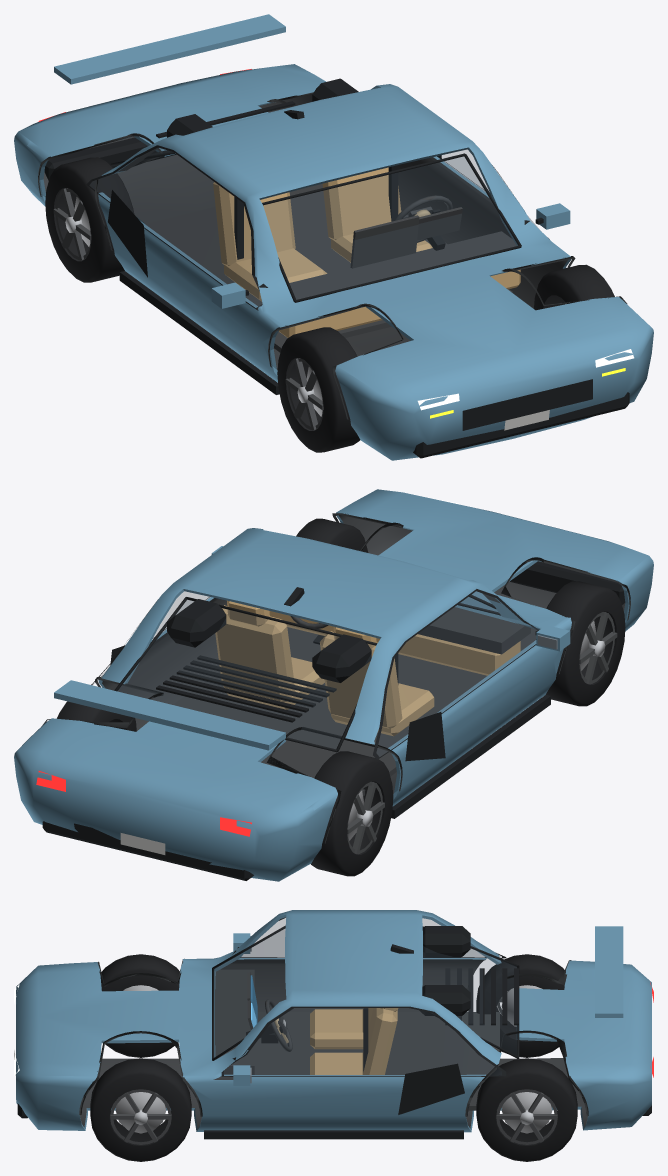
Rendered from fleet-veyron.glb.
3 views of the same model, one above another, from view 1: azimuth 30°, elevation 25°; view 2: azimuth 150°, elevation 25°; view 3: azimuth 270°, elevation 25° (orthographic). The views are drawn at different scales.
Visible parts, largest first — view 1: Body, Surface_CarRoot_Glass, Surface_CarRoot_BlackTrim, Interior_CarRoot_InteriorDark, Interior_CarRoot_InteriorLeather, Surface_CarRoot_Paint, WheelFrontR_Tyre, WheelRearR_Tyre, WheelFrontL_Tyre, Surface_CarRoot_Cladding, Interior_CarRoot_BlackTrim, Surface_WheelRearR_Rim (+1 smaller); view 2: Body, Surface_CarRoot_Glass, Surface_CarRoot_BlackTrim, Interior_CarRoot_InteriorDark, Interior_CarRoot_InteriorLeather, WheelRearR_Tyre, WheelFrontR_Tyre, Surface_CarRoot_Paint, Surface_CarRoot_Cladding, WheelFrontL_Tyre, Surface_WheelRearR_Rim, Surface_WheelFrontR_Rim (+4 smaller); view 3: Body, Surface_CarRoot_Glass, Surface_CarRoot_BlackTrim, Interior_CarRoot_InteriorDark, WheelFrontL_Tyre, WheelRearL_Tyre, Interior_CarRoot_InteriorLeather, WheelRearR_Tyre, Surface_CarRoot_Paint, WheelFrontR_Tyre, Surface_CarRoot_Cladding, Surface_WheelRearL_Rim (+5 smaller).
Part boxes in pixels (bbox=[...]): Body: bbox=[14, 64, 653, 460]; Surface_CarRoot_Glass: bbox=[90, 148, 539, 307]; Surface_CarRoot_BlackTrim: bbox=[44, 78, 629, 458]; Interior_CarRoot_InteriorDark: bbox=[145, 183, 516, 352]; Interior_CarRoot_InteriorLeather: bbox=[213, 167, 520, 337]; Surface_CarRoot_Paint: bbox=[54, 14, 570, 308]; WheelFrontR_Tyre: bbox=[277, 327, 360, 452]; WheelRearR_Tyre: bbox=[45, 157, 134, 282]; WheelFrontL_Tyre: bbox=[534, 264, 614, 310]; Surface_CarRoot_Cladding: bbox=[38, 92, 627, 419]; Interior_CarRoot_BlackTrim: bbox=[234, 165, 445, 259]; Surface_WheelRearR_Rim: bbox=[53, 188, 91, 260]; Body: bbox=[14, 489, 653, 881]; Surface_CarRoot_Glass: bbox=[93, 591, 538, 756]; Surface_CarRoot_BlackTrim: bbox=[42, 561, 625, 880]; Interior_CarRoot_InteriorDark: bbox=[173, 607, 530, 796]; Interior_CarRoot_InteriorLeather: bbox=[215, 600, 520, 736]; WheelRearR_Tyre: bbox=[311, 751, 393, 876]; WheelFrontR_Tyre: bbox=[536, 581, 625, 706]; Surface_CarRoot_Paint: bbox=[54, 546, 570, 750]; Surface_CarRoot_Cladding: bbox=[41, 513, 630, 843]; WheelFrontL_Tyre: bbox=[296, 518, 368, 552]; Surface_WheelRearR_Rim: bbox=[347, 781, 384, 854]; Surface_WheelFrontR_Rim: bbox=[579, 612, 617, 684]; Body: bbox=[16, 910, 651, 1132]; Surface_CarRoot_Glass: bbox=[214, 918, 516, 1075]; Surface_CarRoot_BlackTrim: bbox=[17, 925, 651, 1139]; Interior_CarRoot_InteriorDark: bbox=[215, 969, 499, 1110]; WheelFrontL_Tyre: bbox=[90, 1058, 191, 1161]; WheelRearL_Tyre: bbox=[476, 1058, 577, 1161]; Interior_CarRoot_InteriorLeather: bbox=[310, 1008, 398, 1074]; WheelRearR_Tyre: bbox=[476, 954, 564, 1057]; Surface_CarRoot_Paint: bbox=[233, 926, 623, 1085]; WheelFrontR_Tyre: bbox=[100, 954, 179, 1057]; Surface_CarRoot_Cladding: bbox=[79, 957, 588, 1116]; Surface_WheelRearL_Rim: bbox=[496, 1089, 557, 1144].
Bounding box in the file's own units: 2.35 × 1.23 × 4.49.
